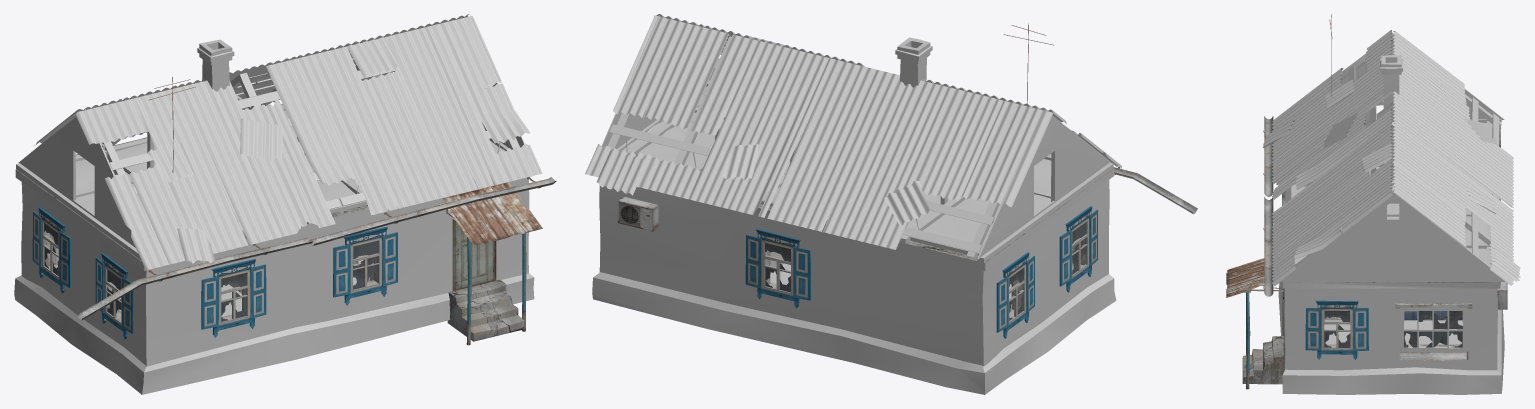
File: Houses_Ready_07.FBX
3 views of the same model, side by side, from view 1: azimuth 30°, elevation 25°; view 2: azimuth 150°, elevation 25°; view 3: azimuth 270°, elevation 25° (orthographic). The views are drawn at different scales.
Parts seen in each view (by area): view 1: Roof_06, Corps_01_7, Foundation_04, Attic_03, Windows_12_2 (×2), Windows_12 (×2), Porch_02_1, Drain_01, Porch_02_2, Door_03, Chimney_01, Door_03_Frame; view 2: Roof_06, Corps_01_7, Foundation_04, Attic_03, Windows_12_2 (×2), Windows_12, Chimney_01, Air_01, Drain_01; view 3: Roof_06, Corps_01_7, Attic_03, Foundation_04, Windows_12_2, Porch_02_2, Porch_02_1, Drain_01, Windows_Big_04, Chimney_01, Outflow_Big_01, Air_01.
Boxes of the visible parts, left/top/right/bottom form: Roof_06: left=34, top=14, right=542, bottom=270; Corps_01_7: left=15, top=104, right=531, bottom=366; Foundation_04: left=14, top=273, right=534, bottom=394; Attic_03: left=16, top=15, right=524, bottom=259; Windows_12_2 (×2): left=32, top=207, right=266, bottom=337; Windows_12 (×2): left=95, top=226, right=397, bottom=339; Porch_02_1: left=443, top=182, right=542, bottom=345; Drain_01: left=77, top=177, right=556, bottom=320; Porch_02_2: left=447, top=279, right=524, bottom=341; Door_03: left=455, top=221, right=493, bottom=289; Chimney_01: left=197, top=39, right=234, bottom=91; Door_03_Frame: left=452, top=219, right=496, bottom=291; Roof_06: left=585, top=14, right=1121, bottom=249; Corps_01_7: left=599, top=168, right=1114, bottom=366; Foundation_04: left=592, top=272, right=1116, bottom=394; Attic_03: left=601, top=15, right=1113, bottom=263; Windows_12_2 (×2): left=745, top=229, right=1034, bottom=338; Windows_12: left=1059, top=206, right=1098, bottom=292; Chimney_01: left=895, top=37, right=932, bottom=87; Air_01: left=617, top=196, right=658, bottom=231; Drain_01: left=1113, top=167, right=1197, bottom=214; Roof_06: left=1263, top=30, right=1520, bottom=285; Corps_01_7: left=1282, top=126, right=1500, bottom=370; Attic_03: left=1281, top=33, right=1505, bottom=281; Foundation_04: left=1278, top=282, right=1504, bottom=394; Windows_12_2: left=1305, top=300, right=1368, bottom=359; Porch_02_2: left=1242, top=336, right=1284, bottom=384; Porch_02_1: left=1226, top=258, right=1284, bottom=389; Drain_01: left=1263, top=116, right=1284, bottom=296; Windows_Big_04: left=1400, top=307, right=1467, bottom=352; Chimney_01: left=1380, top=55, right=1402, bottom=180; Outflow_Big_01: left=1399, top=351, right=1468, bottom=361; Air_01: left=1497, top=282, right=1507, bottom=309.
Bounding box in the file's own units: 1445 × 910 × 847.
